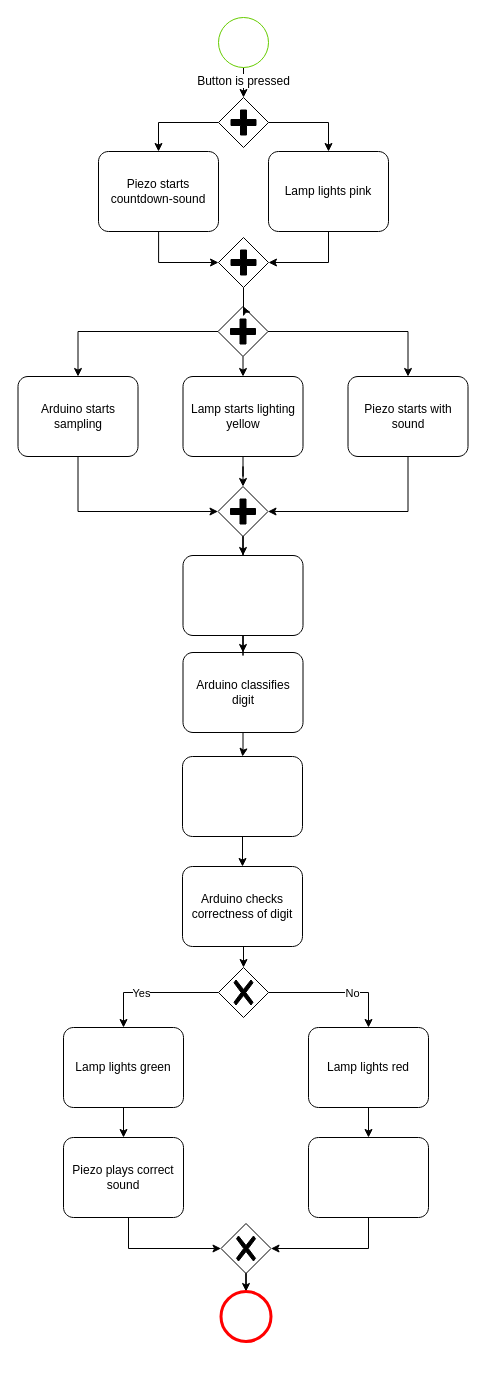
This 485x1380 diagram has some shape labels left out. Here are the shapes that lost their labels. From the top down, the centre of each, then its label:
point (242, 595): User air-writes digit
point (242, 796): Lamp lights depending on digit in blue
point (243, 992): Is digit corrrect?
point (368, 1177): Piezo plays incorrect sound
point (245, 1316): Process completed
